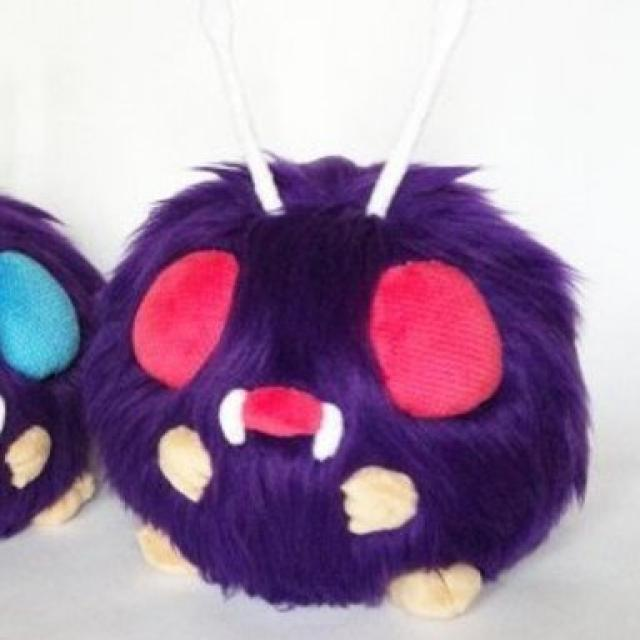Venonat: (79, 71, 592, 640)
